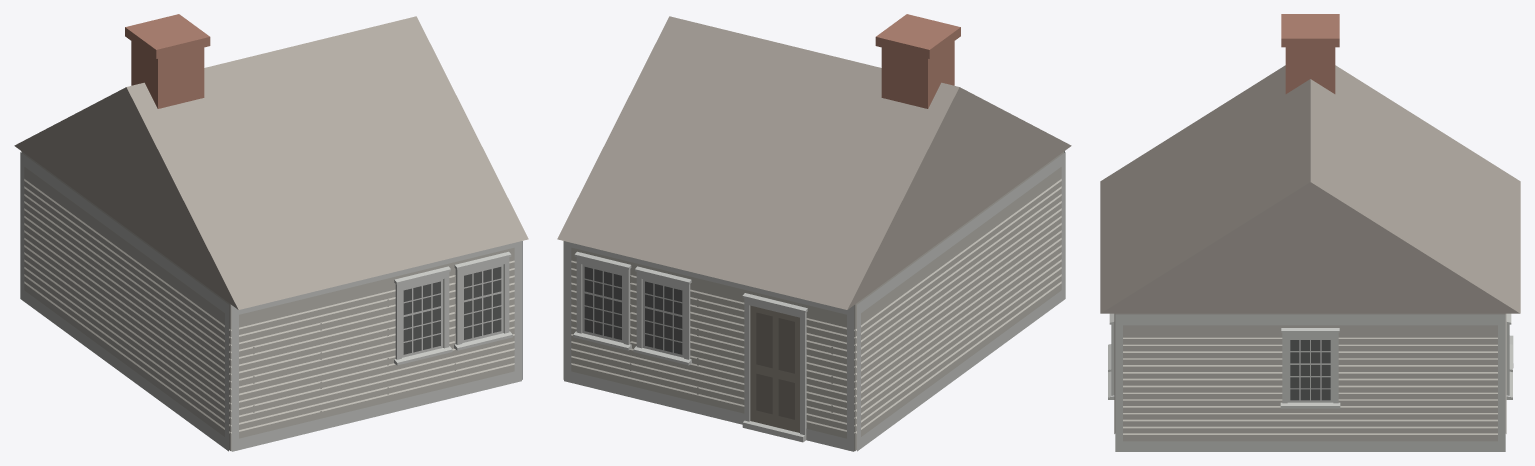
The model's file is recon_1835_north_d3_089__inferred_1835.glb.
3 views of the same model, side by side, from view 1: azimuth 30°, elevation 25°; view 2: azimuth 150°, elevation 25°; view 3: azimuth 270°, elevation 25° (orthographic). The views are drawn at different scales.
Visible parts, largest first — view 1: recon_1835_north_d3_089__inferred_1835; view 2: recon_1835_north_d3_089__inferred_1835; view 3: recon_1835_north_d3_089__inferred_1835.
Boxes of the visible parts, left/top/right/bottom form: recon_1835_north_d3_089__inferred_1835: left=14, top=14, right=528, bottom=451; recon_1835_north_d3_089__inferred_1835: left=557, top=14, right=1071, bottom=451; recon_1835_north_d3_089__inferred_1835: left=1100, top=14, right=1520, bottom=451.
Bounding box in the file's own units: 5.42 × 5.77 × 7.06.
